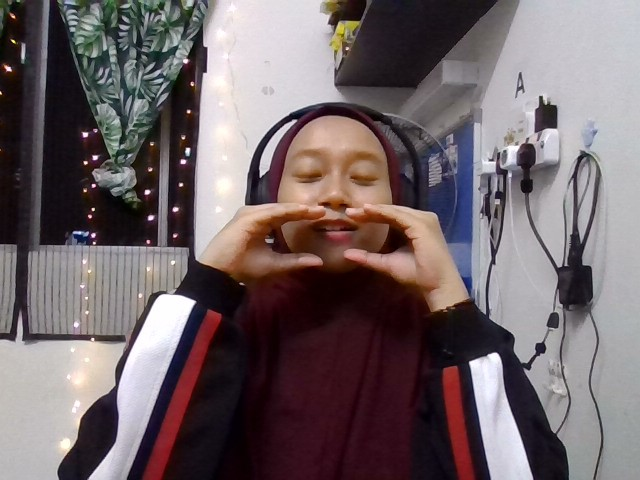Burger: (199, 202, 464, 292)
